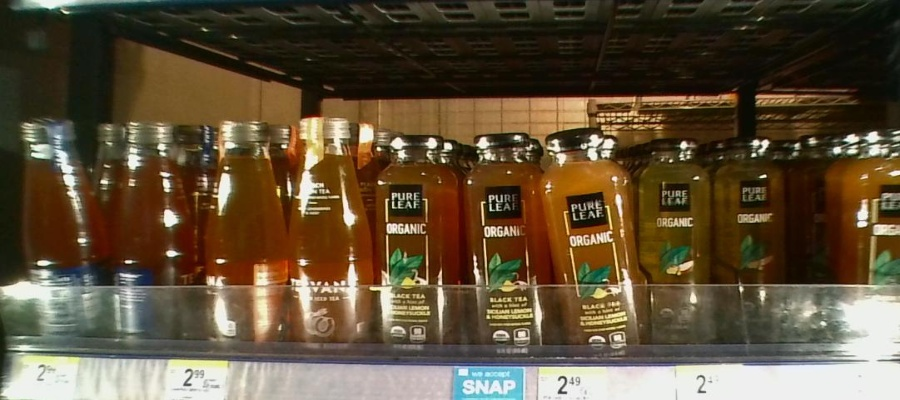bottle: (547, 123, 640, 366), (193, 120, 285, 360), (289, 117, 377, 360), (376, 123, 464, 361), (17, 111, 104, 350), (108, 113, 188, 353), (468, 124, 546, 367), (643, 131, 716, 350), (719, 133, 790, 356), (848, 127, 900, 348)
